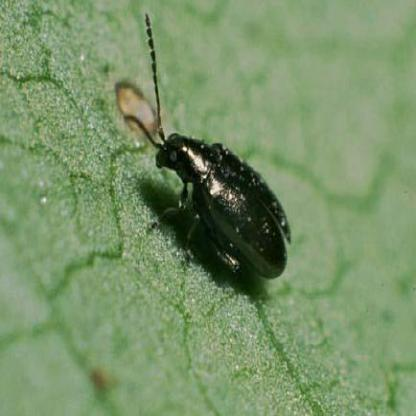beetle: (129, 101, 295, 288)
